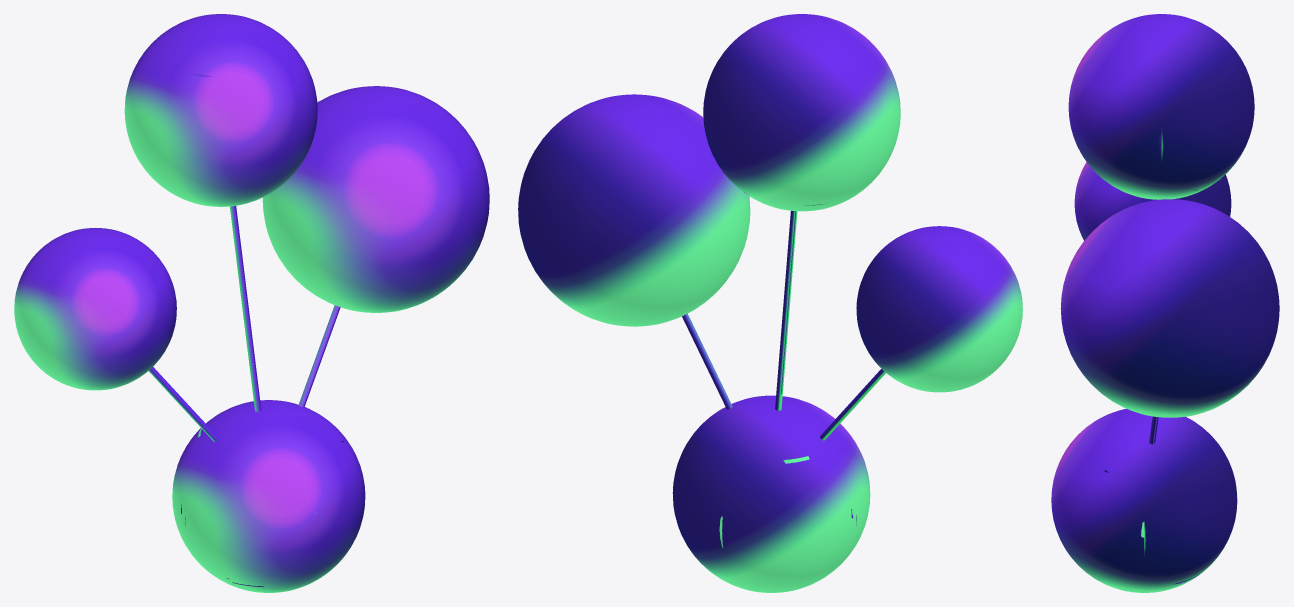
The model's file is molecule.glb.
The picture shows the model from 3 angles, left to right: view 1: azimuth 30°, elevation 25°; view 2: azimuth 150°, elevation 25°; view 3: azimuth 270°, elevation 25°; orthographic projection. The views are drawn at different scales.
Parts seen in each view (by area): view 1: Sphere.001; view 2: Sphere.001; view 3: Sphere.001.
Part boxes in pixels (left/top/right/bottom): Sphere.001: left=14, top=14, right=489, bottom=592; Sphere.001: left=518, top=14, right=1022, bottom=592; Sphere.001: left=1051, top=14, right=1279, bottom=592.
Size of the model in its own units: 2.96 by 3.48 by 1.32.
1 material, 1 textured.
